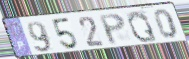0: (154, 8, 180, 41)
2: (79, 16, 106, 48)
5: (49, 17, 80, 51)
9: (27, 21, 53, 53)
P: (97, 12, 127, 47)
Q: (126, 10, 159, 43)
